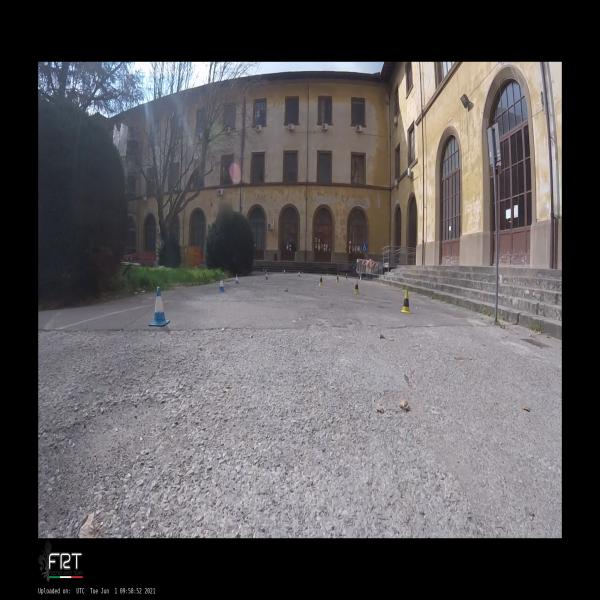blue_cone: (149, 287, 170, 326), (218, 275, 225, 292), (234, 273, 240, 284), (265, 272, 268, 280), (298, 270, 301, 277), (284, 269, 286, 274), (264, 269, 266, 273)
yellow_cone: (401, 290, 411, 313), (353, 280, 360, 294), (318, 274, 324, 285), (336, 274, 340, 283), (345, 274, 348, 280), (301, 269, 304, 274), (327, 270, 329, 275)
